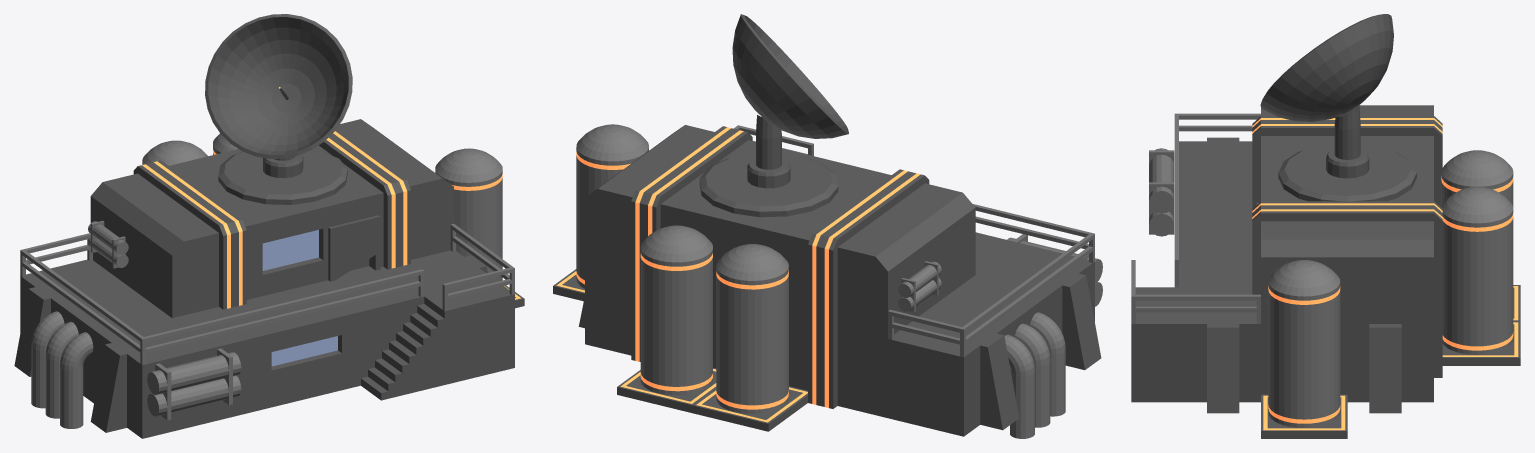
Rendered from SciFiBuilding1.fbx.
3 renders of one model, left to right at view 1: azimuth 30°, elevation 25°; view 2: azimuth 150°, elevation 25°; view 3: azimuth 270°, elevation 25°, orthographic. The views are drawn at different scales.
Parts seen in each view (by area): view 1: Cube.016; view 2: Cube.016; view 3: Cube.016.
Boxes of the visible parts, x1=… form: Cube.016: x1=14, y1=14, x2=524, y2=438; Cube.016: x1=553, y1=14, x2=1102, y2=438; Cube.016: x1=1131, y1=14, x2=1520, y2=438.
Bounding box in the file's own units: 1274 × 878 × 900.
